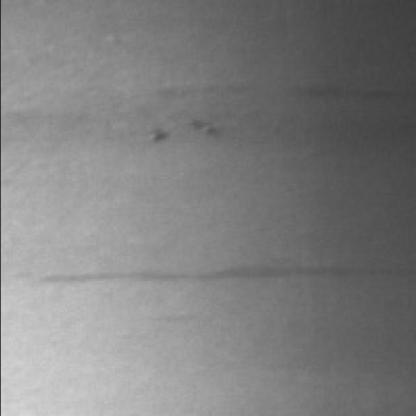inclusion: (29, 256, 414, 306), (276, 73, 414, 121)
